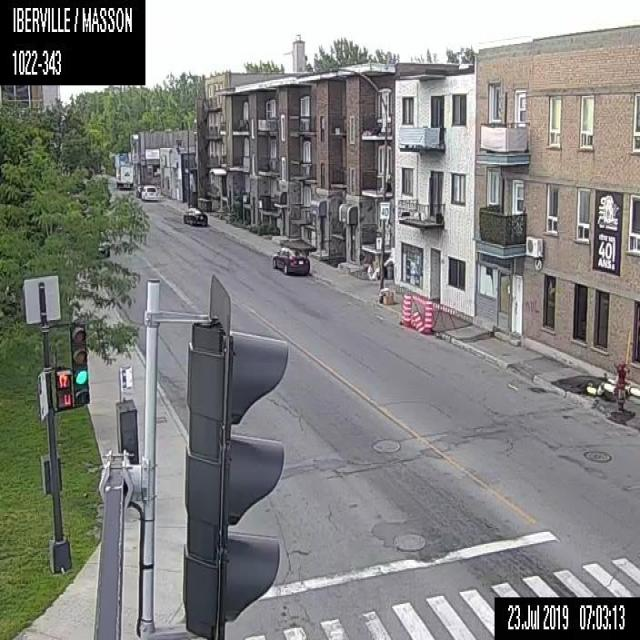construction: (548, 361, 628, 400), (399, 290, 412, 326), (422, 298, 435, 334), (410, 308, 423, 333)
vehicle: (270, 242, 310, 274), (87, 234, 111, 258), (115, 160, 133, 188), (183, 205, 208, 224), (140, 183, 158, 200), (135, 184, 143, 198)
